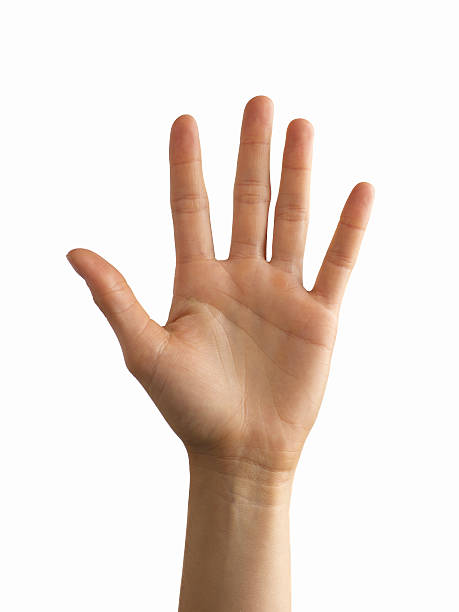non-diseased: (57, 91, 376, 473)
